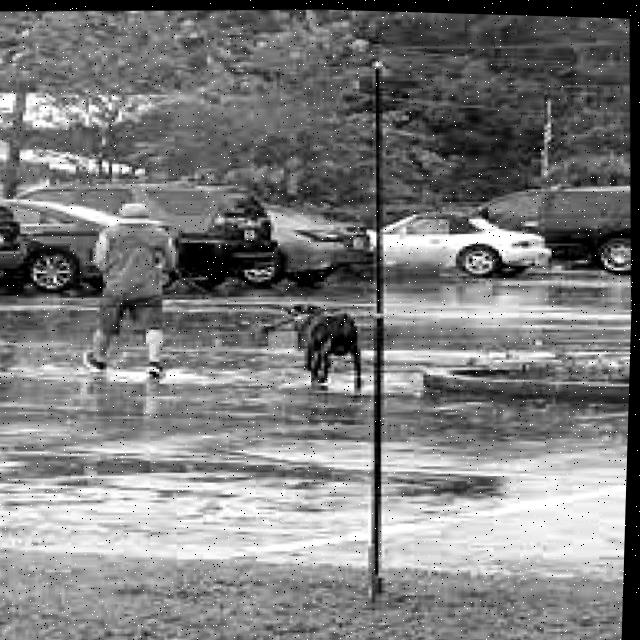civilian: (70, 192, 193, 388)
dog: (271, 291, 375, 389)
